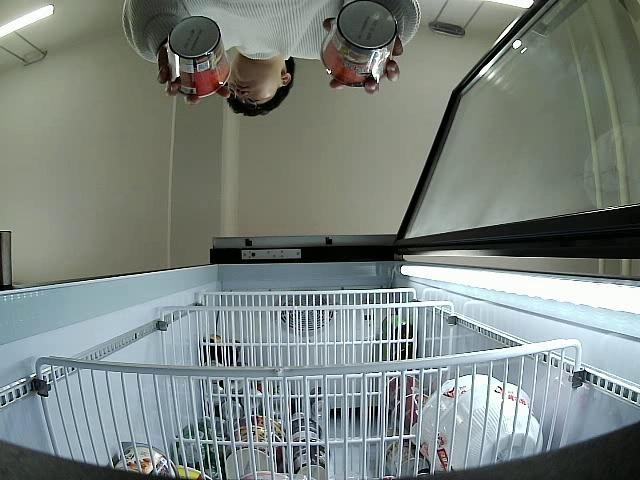02_shinRamen_S: (321, 0, 396, 84), (167, 16, 230, 98)
